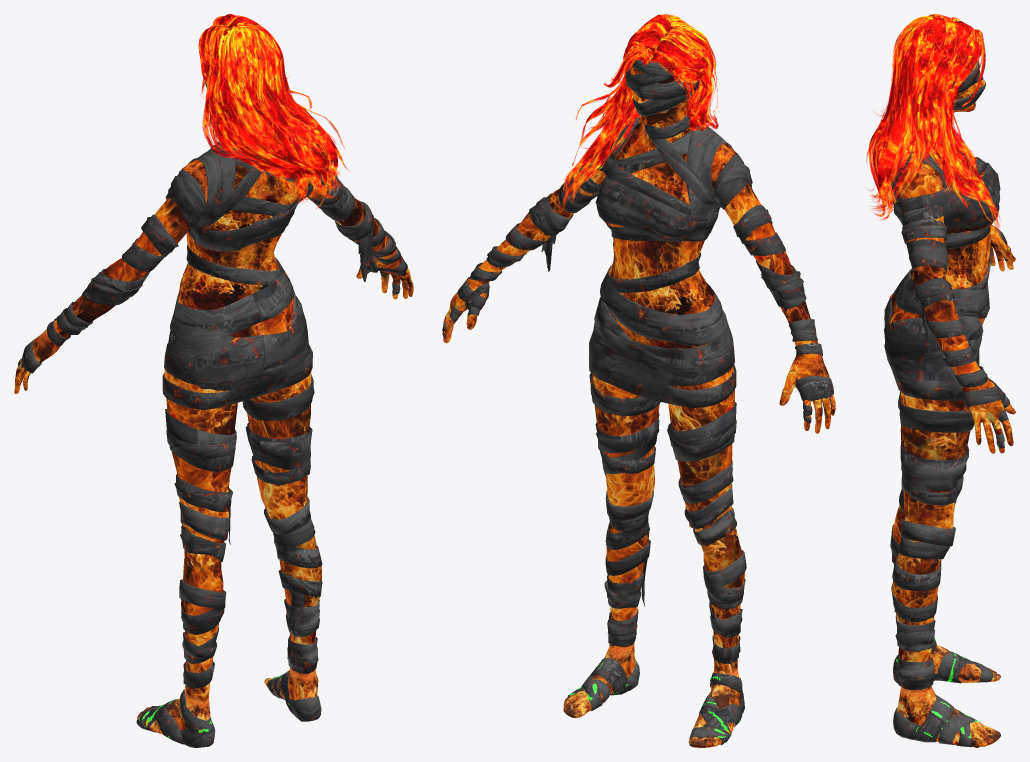
File: inferno_fiend_set_pubg_mobile.glb
3 renders of one model, left to right at view 1: azimuth 30°, elevation 25°; view 2: azimuth 150°, elevation 25°; view 3: azimuth 270°, elevation 25°, orthographic.
Parts seen in each view (by area): view 1: Mesh_0028.rip_6, Mesh_0032.rip_3, Mesh_0029.rip_8, Mesh_0023.rip_4, Mesh_0022.rip_1, Mesh_0030.rip_7, Mesh_0025.rip_5; view 2: Mesh_0028.rip_6, Mesh_0029.rip_8, Mesh_0022.rip_1, Mesh_0023.rip_4, Mesh_0032.rip_3, Mesh_0030.rip_7, Mesh_0025.rip_5, Mesh_0031.rip_0, Mesh_0024.rip_2; view 3: Mesh_0028.rip_6, Mesh_0032.rip_3, Mesh_0029.rip_8, Mesh_0022.rip_1, Mesh_0023.rip_4, Mesh_0030.rip_7, Mesh_0025.rip_5, Mesh_0031.rip_0, Mesh_0024.rip_2.
Boxes of the visible parts, x1,y1,x2,y2 form: Mesh_0028.rip_6: (162, 245, 322, 688); Mesh_0032.rip_3: (198, 14, 348, 208); Mesh_0029.rip_8: (17, 141, 407, 373); Mesh_0023.rip_4: (164, 293, 321, 702); Mesh_0022.rip_1: (14, 159, 413, 393); Mesh_0030.rip_7: (136, 671, 321, 747); Mesh_0025.rip_5: (137, 667, 318, 734); Mesh_0028.rip_6: (589, 252, 746, 664); Mesh_0029.rip_8: (442, 103, 833, 423); Mesh_0022.rip_1: (442, 120, 835, 433); Mesh_0023.rip_4: (592, 313, 744, 674); Mesh_0032.rip_3: (562, 14, 718, 209); Mesh_0030.rip_7: (567, 658, 744, 745); Mesh_0025.rip_5: (563, 643, 740, 747); Mesh_0031.rip_0: (626, 59, 698, 116); Mesh_0024.rip_2: (630, 46, 695, 150); Mesh_0028.rip_6: (884, 248, 991, 689); Mesh_0032.rip_3: (866, 14, 1000, 235); Mesh_0029.rip_8: (890, 150, 1011, 448); Mesh_0022.rip_1: (890, 148, 1015, 453); Mesh_0023.rip_4: (889, 294, 984, 693); Mesh_0030.rip_7: (893, 637, 993, 747); Mesh_0025.rip_5: (897, 644, 1000, 747); Mesh_0031.rip_0: (896, 54, 985, 110); Mesh_0024.rip_2: (953, 63, 984, 112).
Bounding box in the file's own units: 1.07 × 1.82 × 0.3624.
9 materials, 9 textured.
